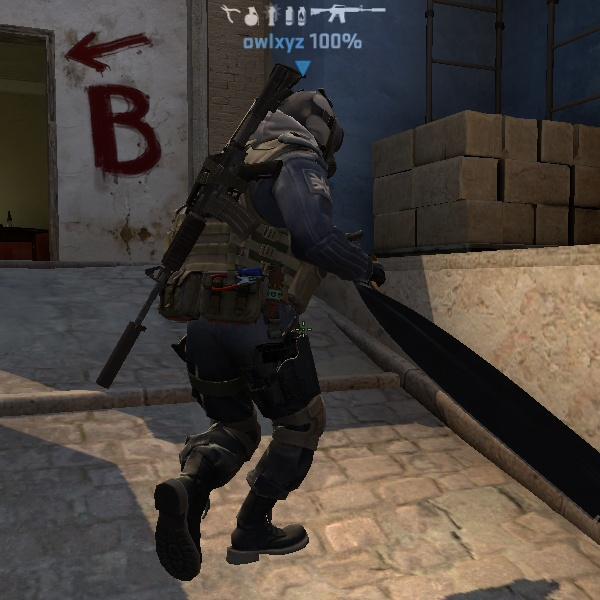ct_body: (109, 66, 401, 582)
ct_head: (255, 76, 368, 182)
